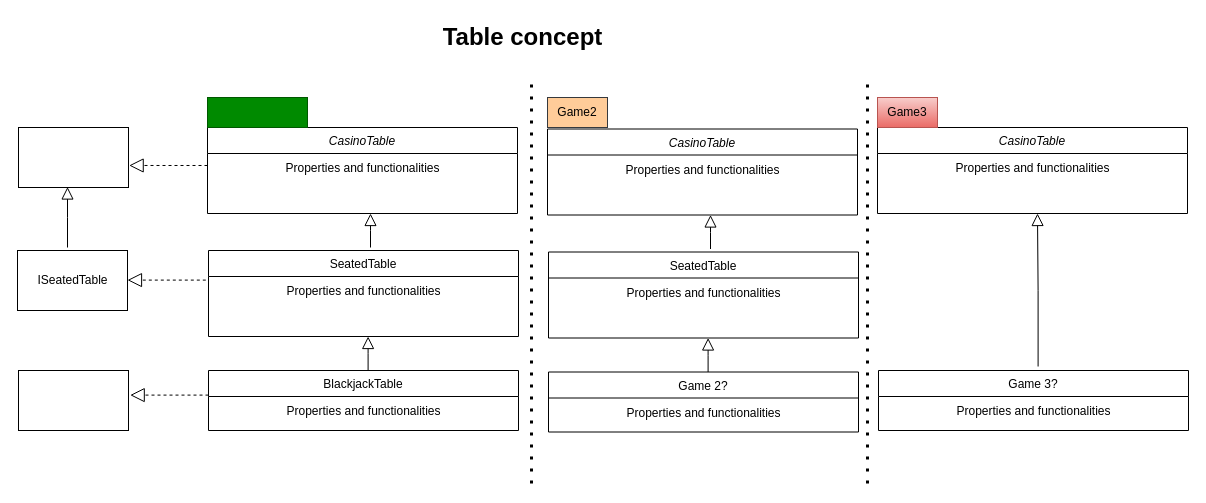
Image size: 1206x503. Some labels were removed from this diagram. Each missing label, with the centre of its shape:
"Blackjack" belongs at [257,112].
"IBlackjackTable" belongs at [73,400].
"ICasinoTable" belongs at [73,157].
